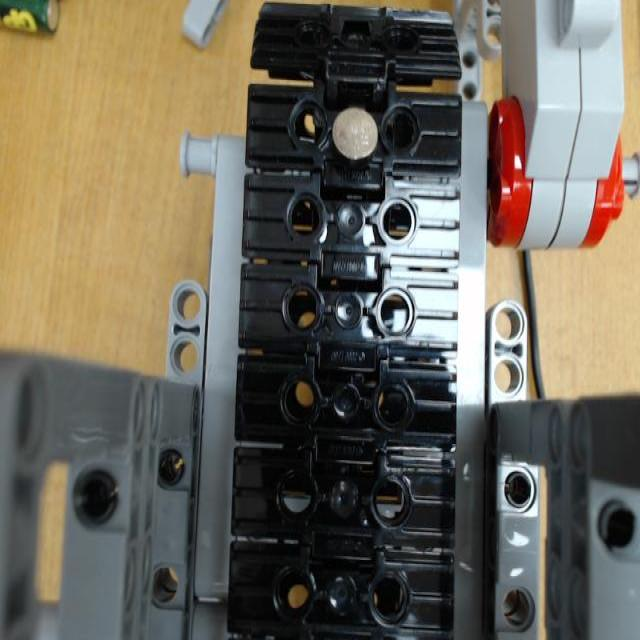COIN: (331, 102, 378, 161)
